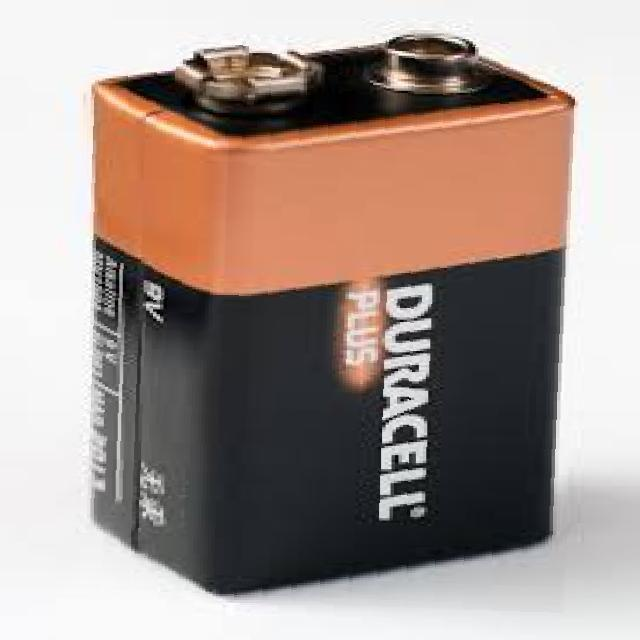Battery: (89, 29, 574, 599)
